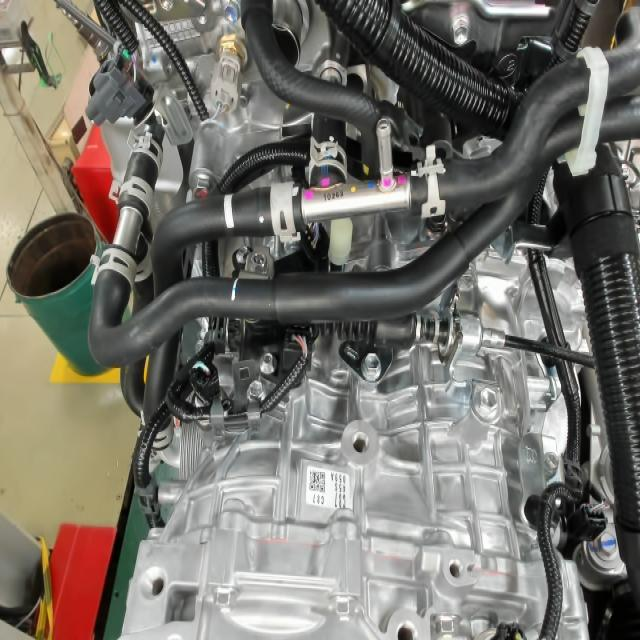Transaxele-C87-A27: (308, 482, 350, 507)
